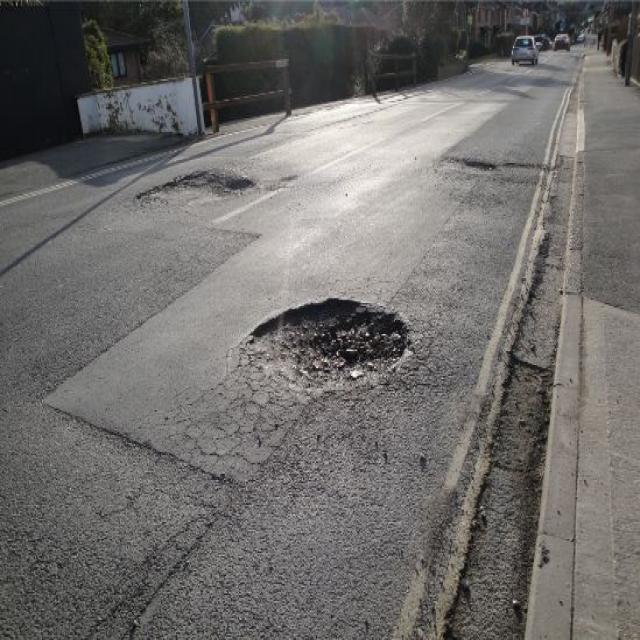pothole: (234, 289, 416, 390), (132, 168, 259, 208)
